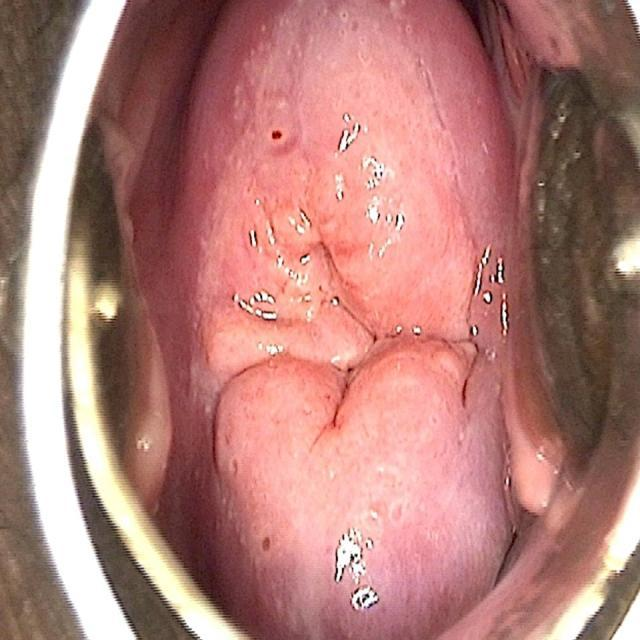cervical_lesion: (120, 0, 571, 631)
